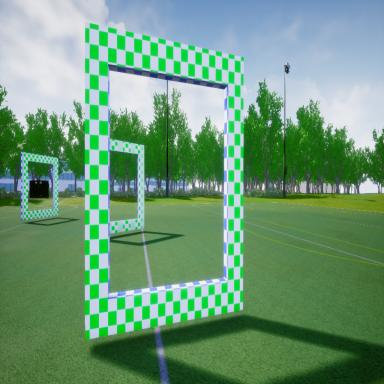gate: (81, 11, 244, 337), (19, 148, 62, 228)
